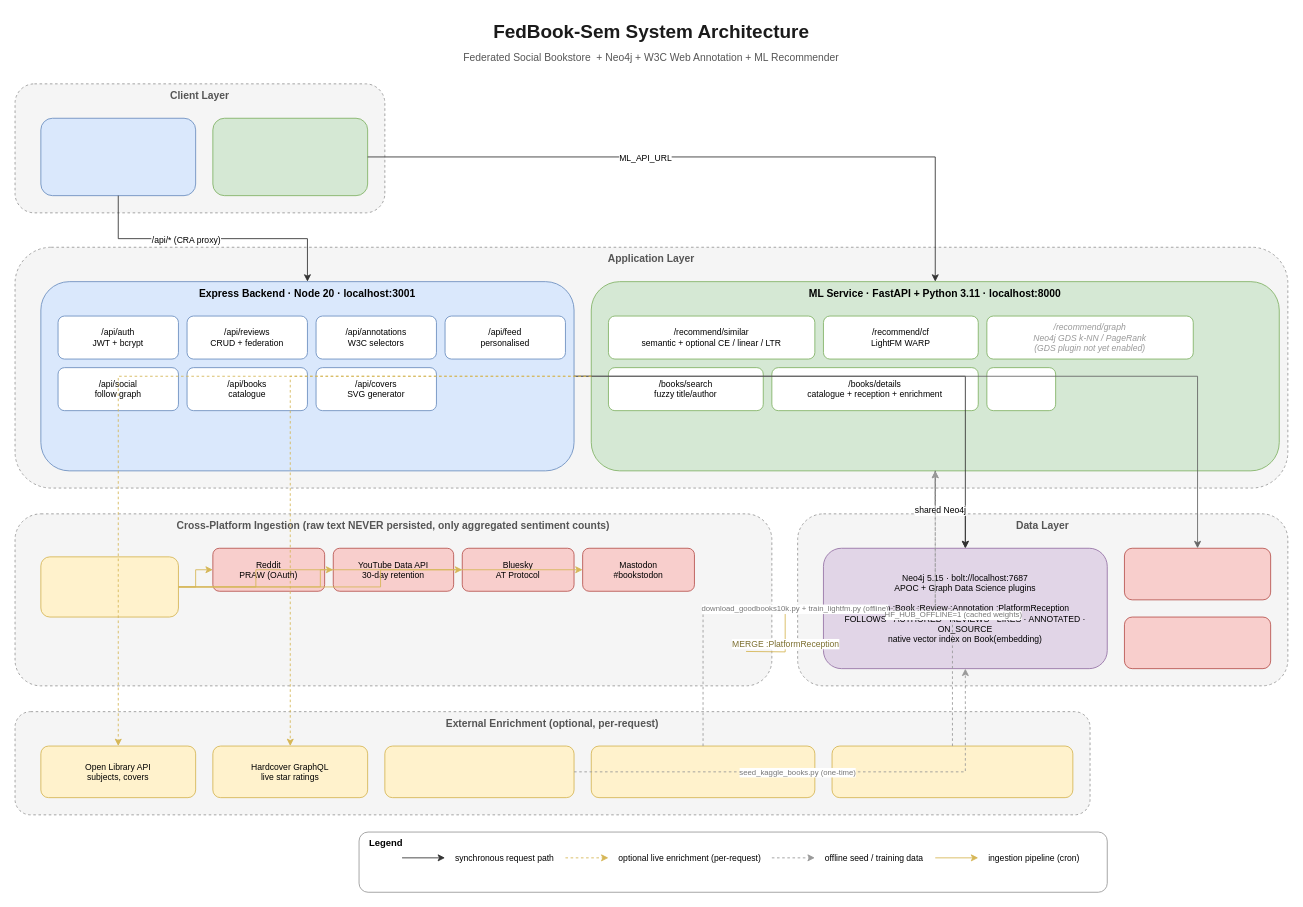
The diagram is 1303 pixels wide and 907 high, and some of its shapes have lost their labels. The shapes that lost their labels are listed below. From the top down, each one's centre as x and y in pixels, then its label:
At point (118, 156): "React Frontend (CRA · React 18) localhost:3000".
At point (290, 156): "Streamlit Dashboard (ML demo UI) localhost:8501".
At point (1021, 389): "/health".
At point (109, 586): "ingest_daily.py scheduler / cron".
At point (1197, 573): "Redis 7 cache + Bull queue".
At point (1197, 642): "PostgreSQL 16 relational".
At point (479, 771): "Kaggle 7k Books catalogue seed (offline CSV)".
At point (702, 771): "goodbooks-10k ~6M real Goodreads ratings (CF training)".
At point (952, 771): "HuggingFace Hub model weights (offline-cached in container)".
